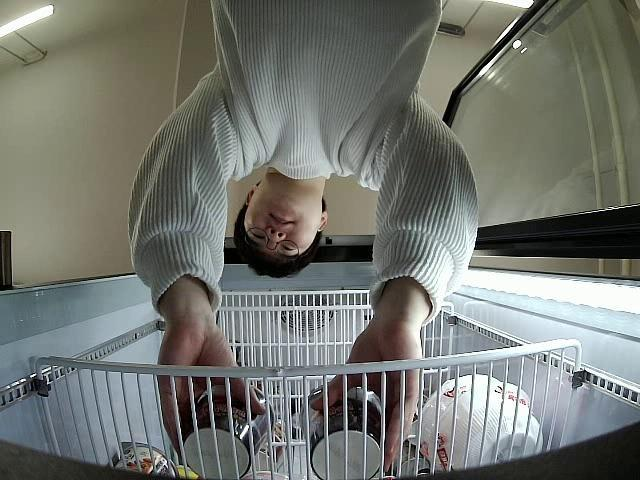08_buldak_S: (182, 386, 274, 480), (303, 382, 385, 480)
